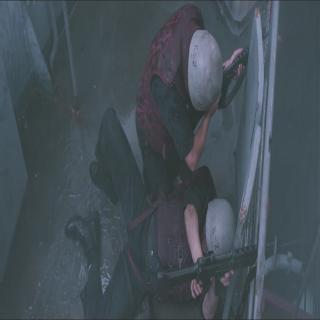gun: (154, 231, 308, 310), (185, 18, 272, 130)
